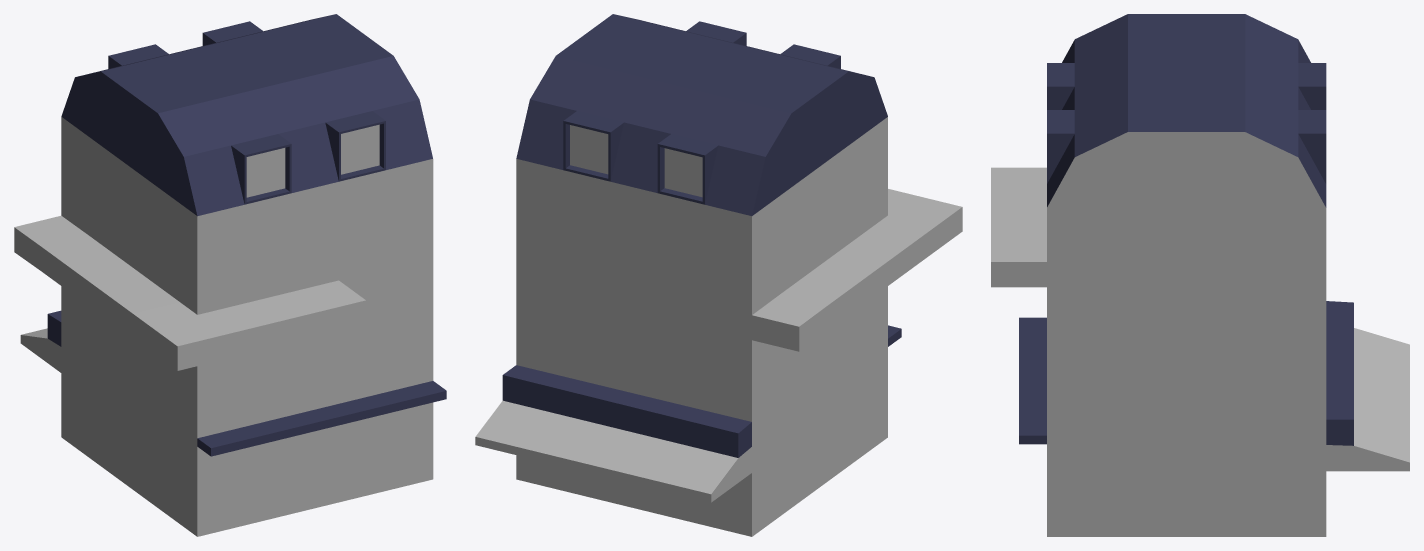
The model's file is paris_building_scaled_05_.fbx.
3 views of the same model, side by side, from view 1: azimuth 30°, elevation 25°; view 2: azimuth 150°, elevation 25°; view 3: azimuth 270°, elevation 25° (orthographic). The views are drawn at different scales.
Parts seen in each view (by area): view 1: Cube-col; view 2: Cube-col; view 3: Cube-col.
Boxes of the visible parts, x1,y1,x2,y2 form: Cube-col: (14,14,446,536); Cube-col: (475,14,962,536); Cube-col: (991,14,1409,536).
Size of the model in its own units: 1200 by 1600 by 1500.
